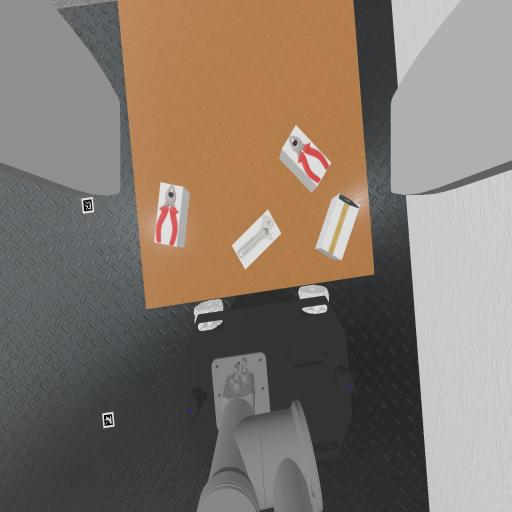hammer: (328, 195, 358, 254)
pliers: (289, 136, 329, 183), (156, 185, 178, 245)
wrench: (239, 217, 274, 257)
